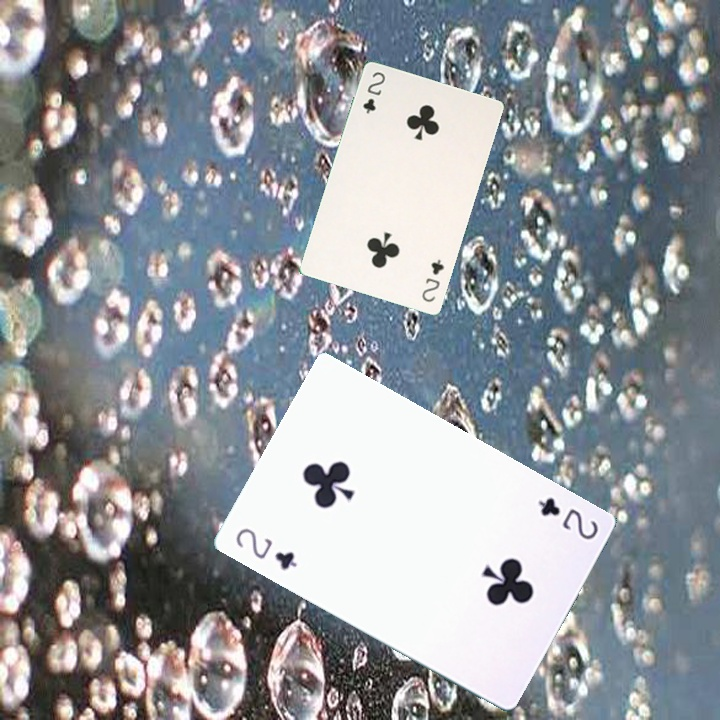2c: (231, 523, 300, 573), (534, 493, 601, 543), (418, 255, 447, 305), (359, 67, 388, 116)
